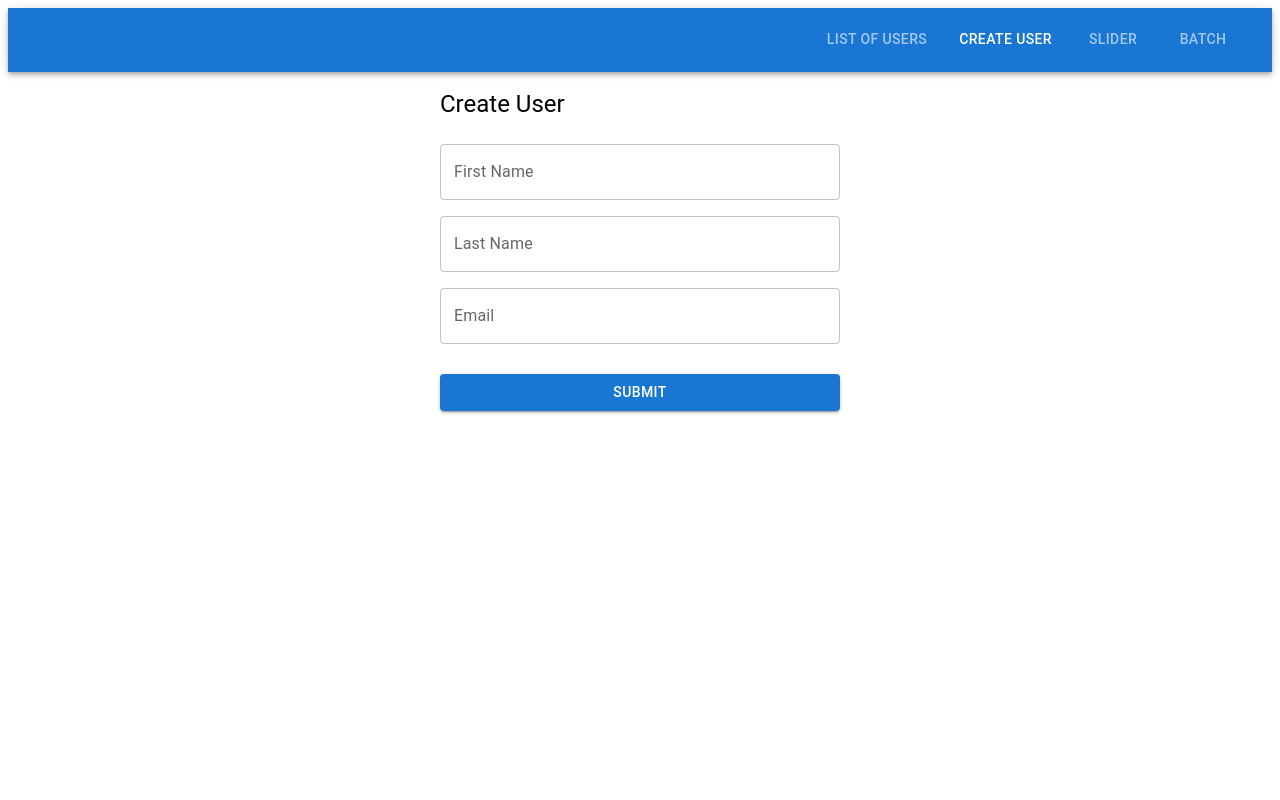
Create User Form › should submit the form successfully with valid inputs
The image size is (1280, 800).
In the field named "firstName": (640,172) [440,144,840,200], type "Meet"
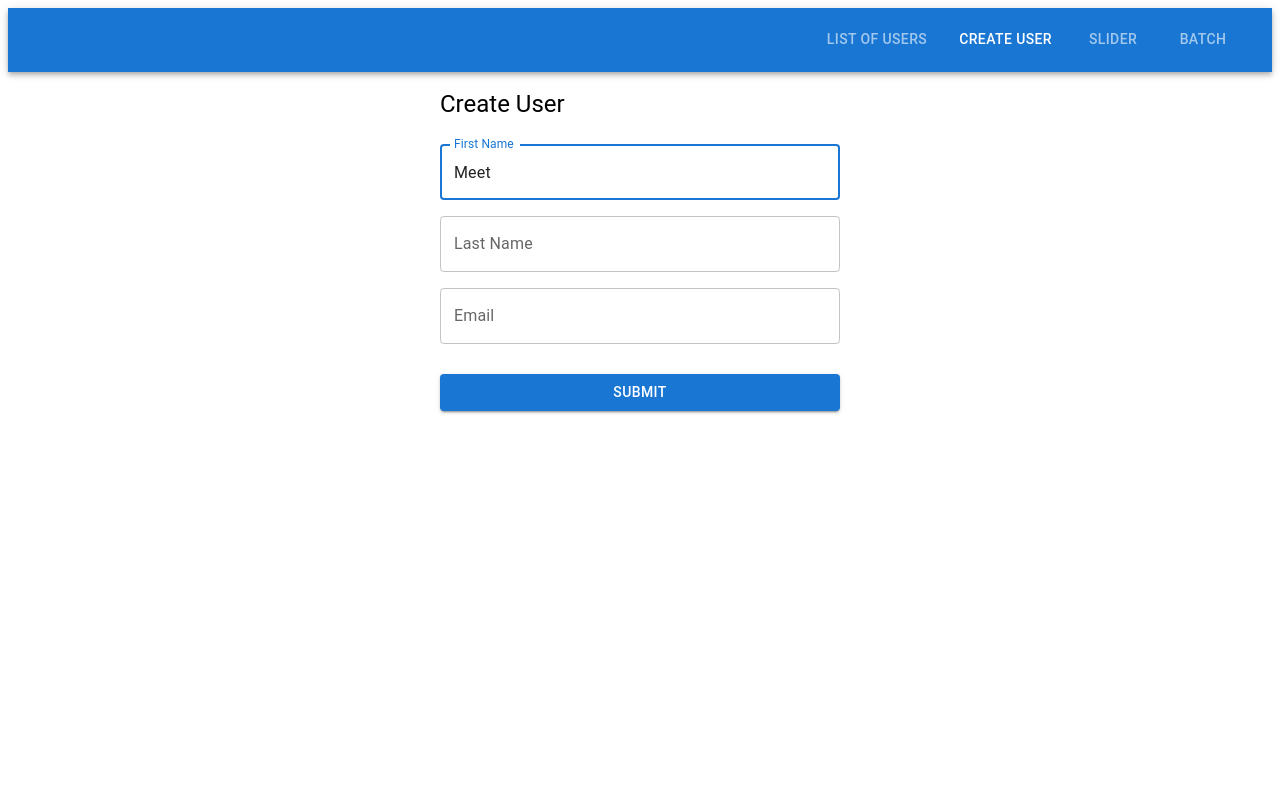
In the field named "lastName": (640,244) [440,216,840,272], type "Shah"
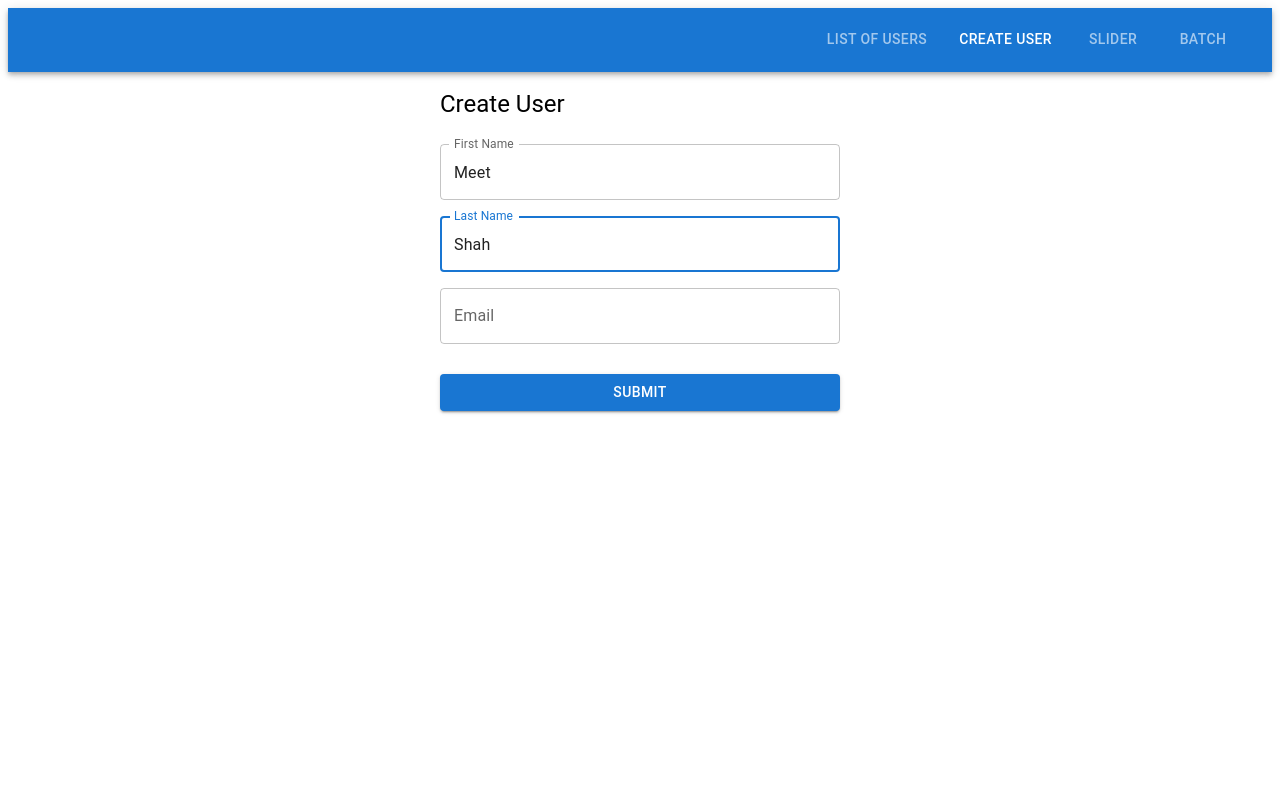
In the field named "emailId": (640,316) [440,288,840,344], type "meetshah@gmail.com"
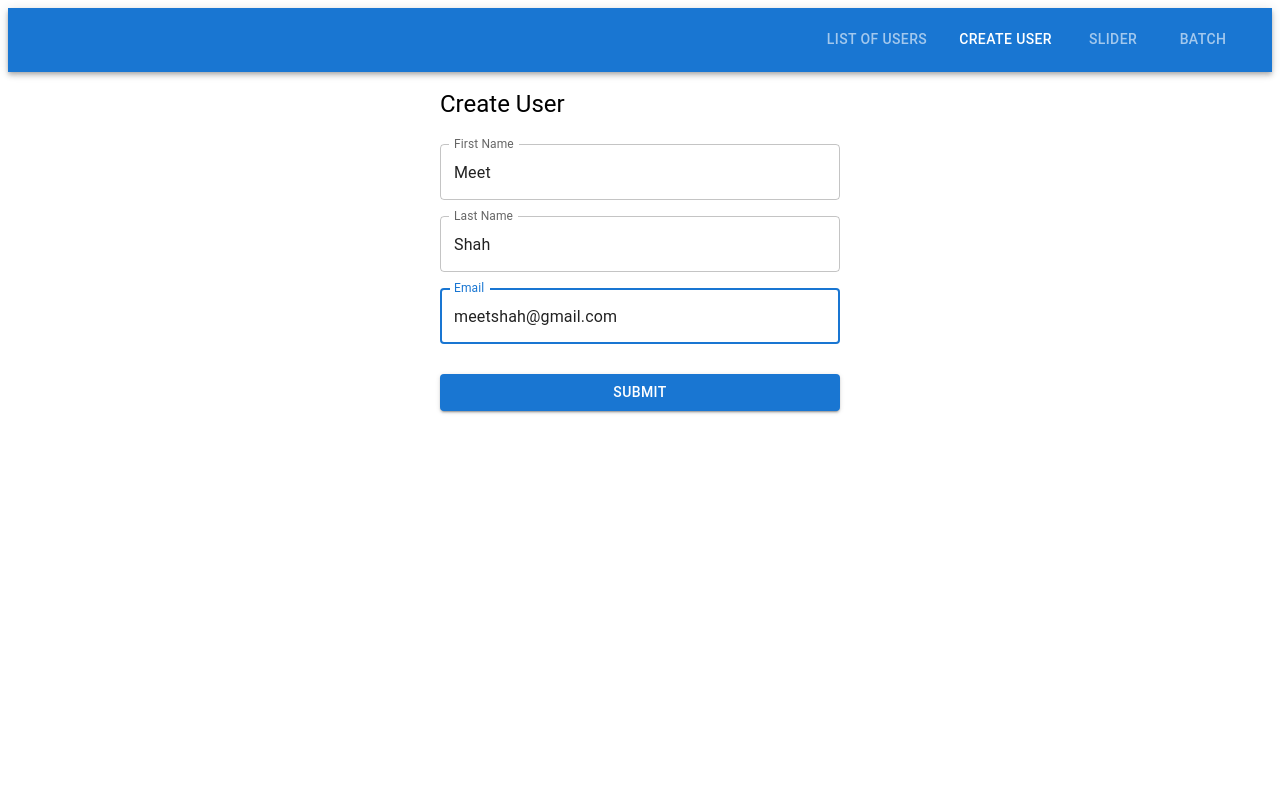
Click the submit button: (640,393) [440,374,840,411]
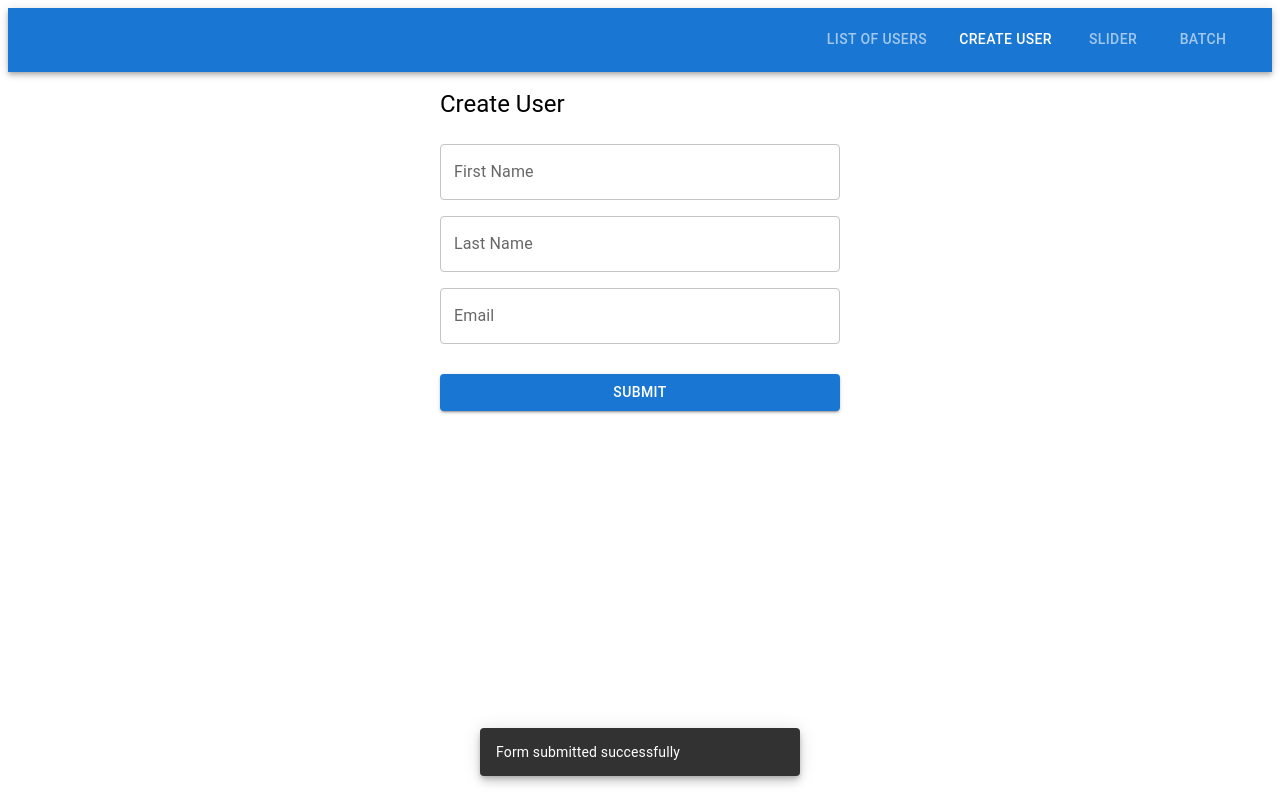
expect the text "Form submitted successfully" is shown: met, box [496,744,680,760]
